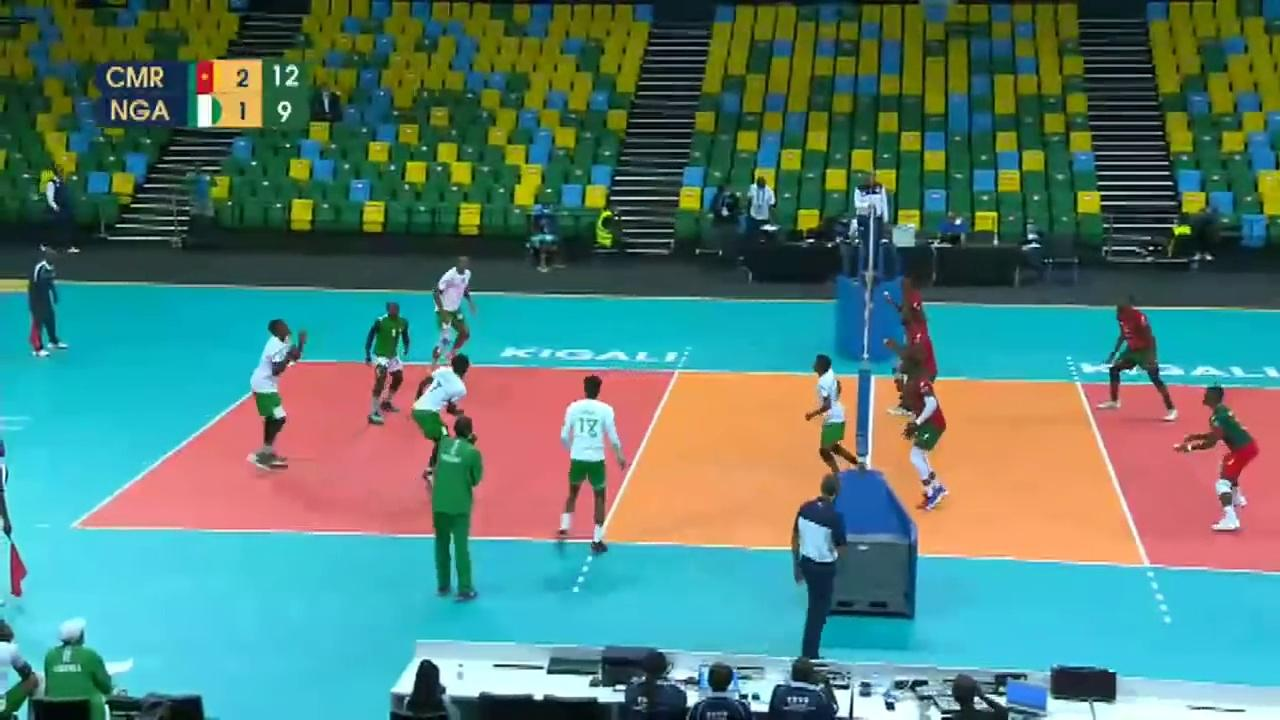player: (1171, 381, 1259, 529), (555, 378, 627, 552), (1099, 297, 1181, 417), (899, 355, 951, 519), (891, 304, 945, 460), (250, 317, 302, 464), (414, 355, 473, 483), (801, 344, 856, 474), (891, 271, 937, 417), (363, 301, 410, 420), (431, 254, 476, 354)
refree: (791, 475, 848, 656), (27, 250, 67, 354), (853, 167, 891, 265)
